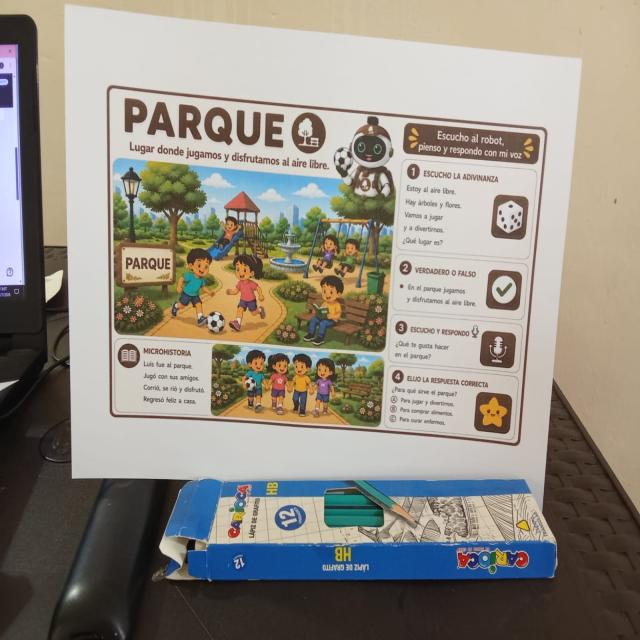parque: (102, 79, 553, 452)
